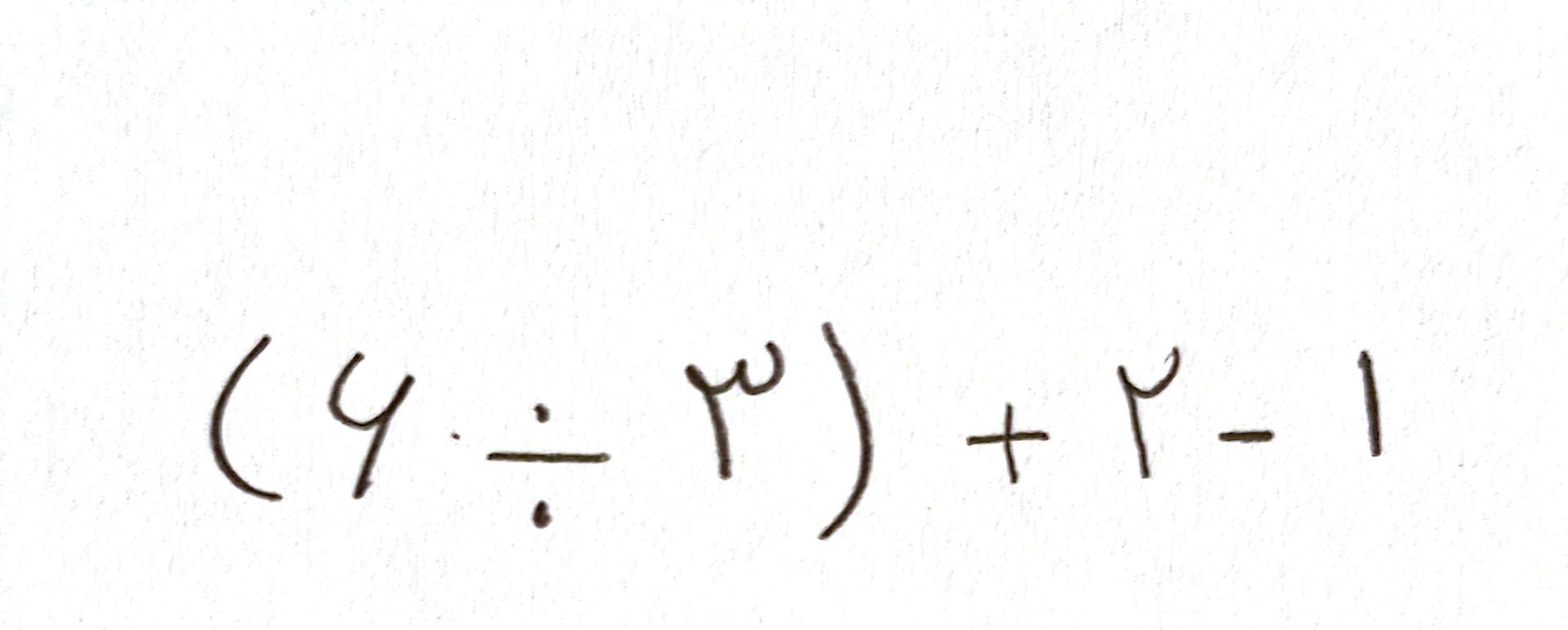character: (486, 404, 613, 528), (328, 351, 426, 499), (820, 319, 885, 542), (684, 339, 784, 481), (211, 336, 276, 508), (1117, 345, 1183, 480), (966, 402, 1048, 484), (1358, 349, 1380, 457), (1216, 429, 1276, 442)
